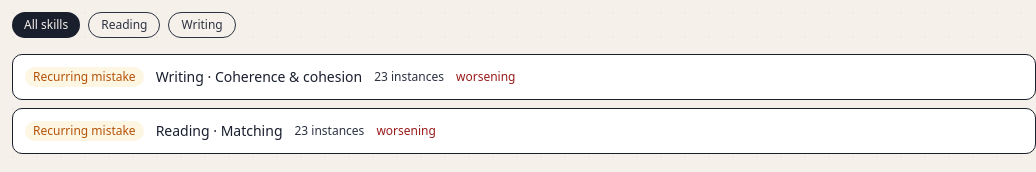
StudentMistakesList (AC8-10, P1) › the skill filter narrows rows by skillSource client-side
Check: the element with test id "student-mistake-row-0" is shown, box [12,54,1035,100]
Check: the element with test id "student-mistake-row-1" is shown, box [12,108,1035,154]
Click the button with test id "student-mistakes-filter-reading" at coordinates (124, 25), box [88,12,160,38]
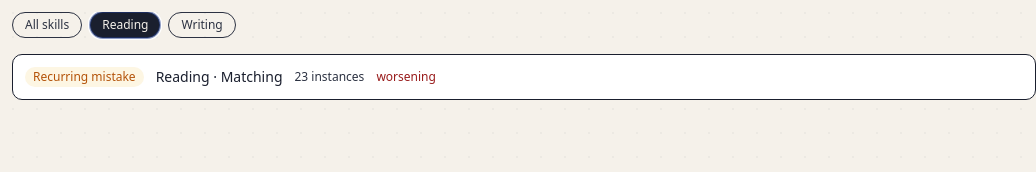
Check: the text "Matching" is shown, box [221,67,282,86]
Check: the element with test id "student-mistake-row-0" is shown, box [12,54,1035,100]
